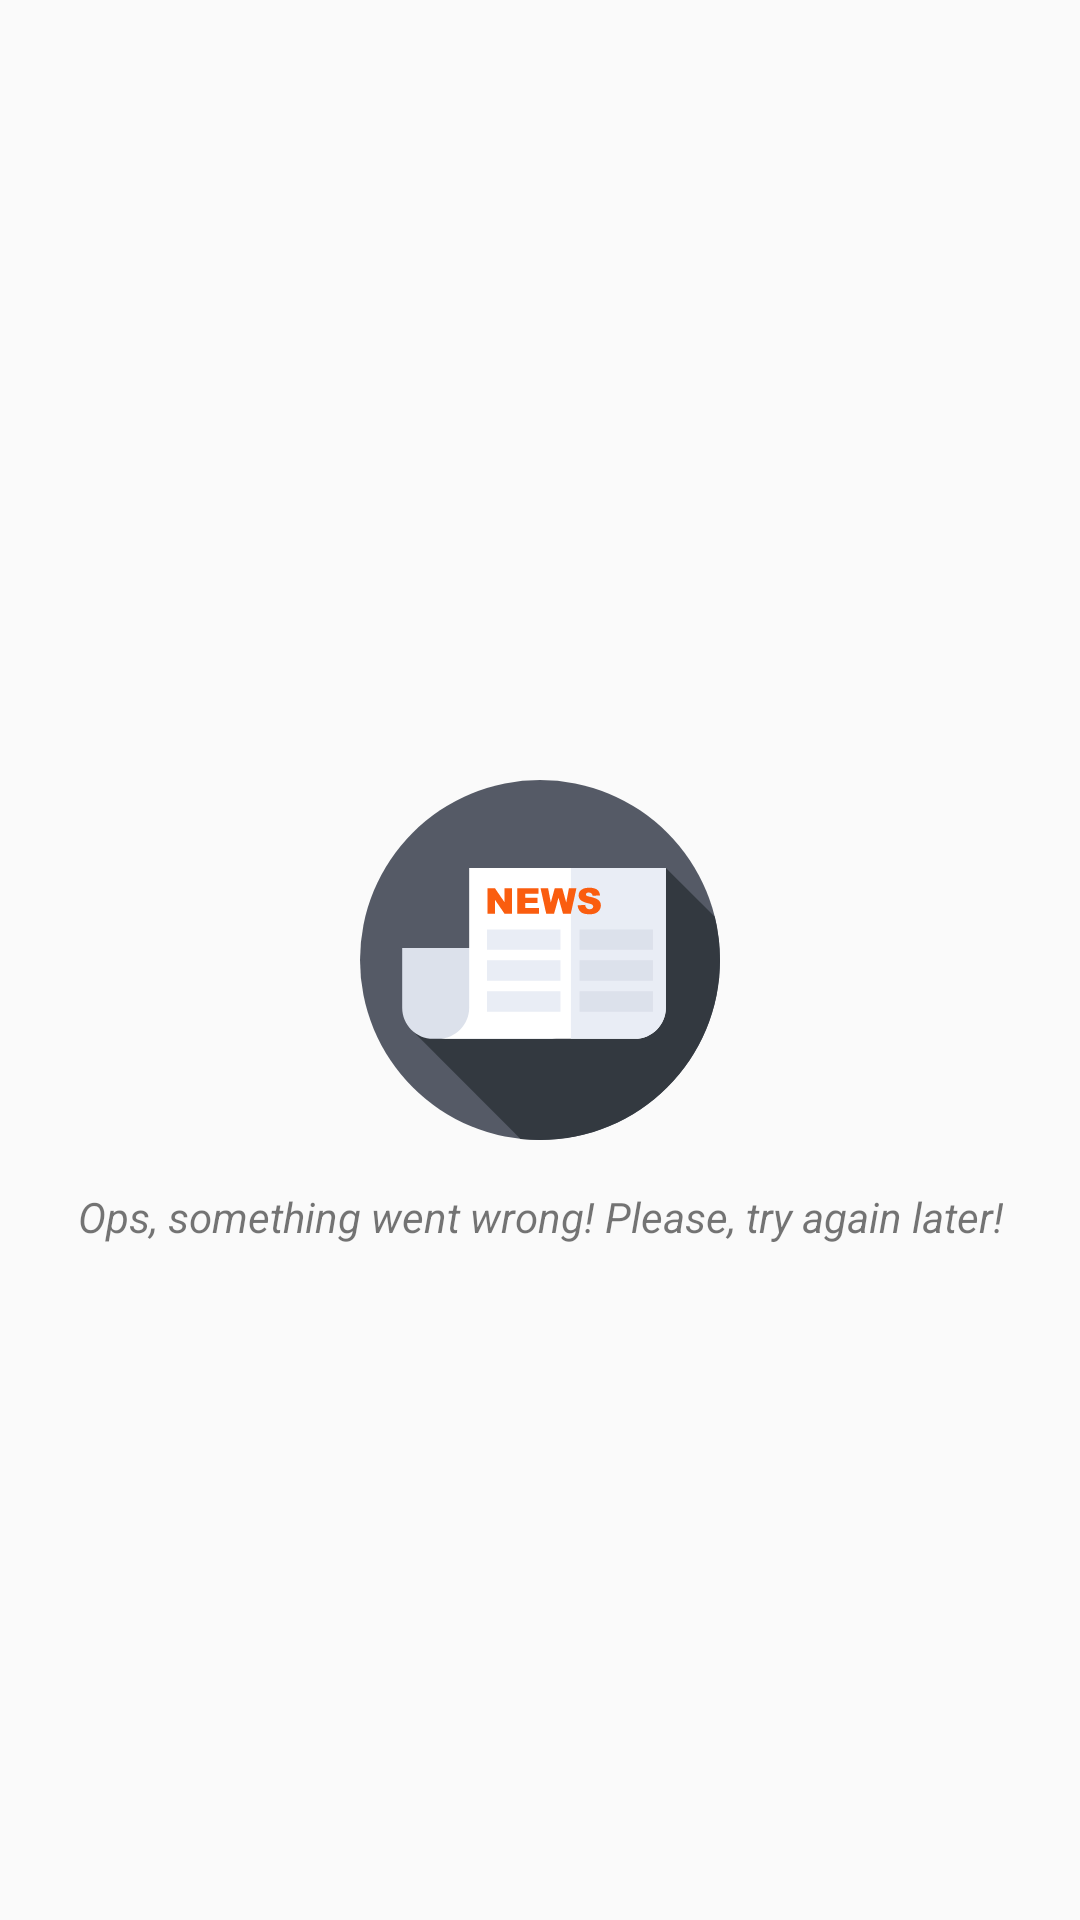

Icons on this 1080x1920 Android screen, each with its box as (x1, y1, x2, y2):
newspaper: (360, 780, 720, 1140)
